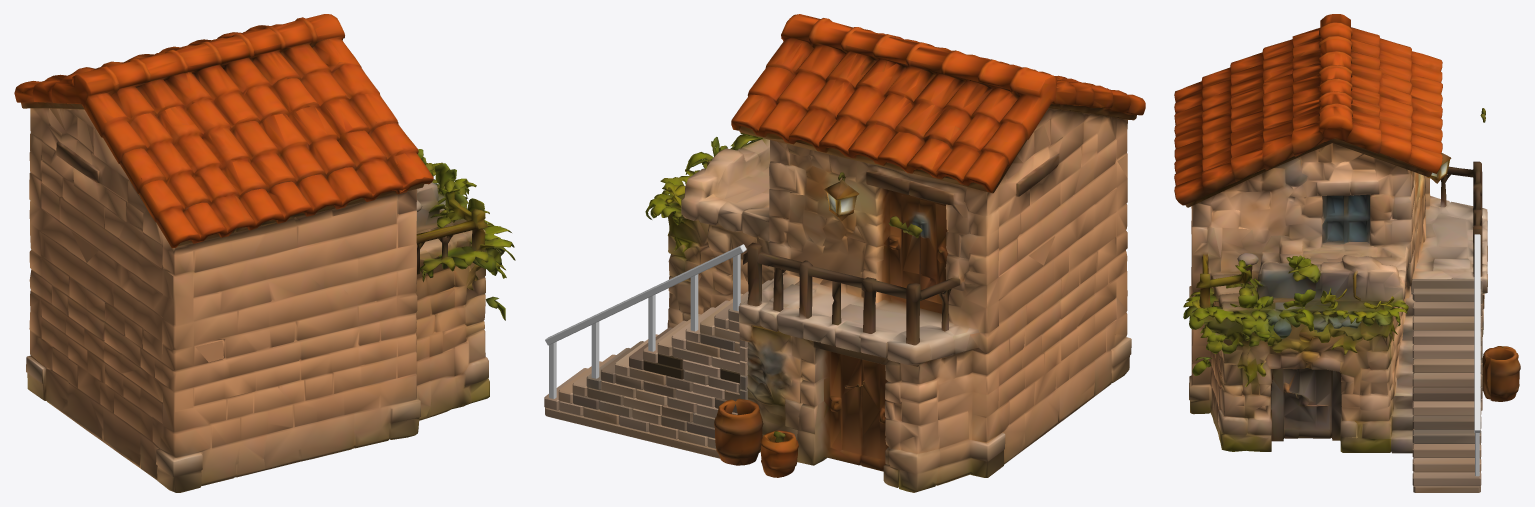
3 views of the same model, side by side, from view 1: azimuth 30°, elevation 25°; view 2: azimuth 150°, elevation 25°; view 3: azimuth 270°, elevation 25° (orthographic). The views are drawn at different scales.
Parts seen in each view (by area): view 1: Fachada_L3; view 2: Fachada_L3, Alvenaria_L3, Corrimao; view 3: Fachada_L3, Alvenaria_L3, Corrimao.
Boxes of the visible parts, x1,y1,x2,y2 form: Fachada_L3: [14, 14, 515, 492]; Fachada_L3: [645, 14, 1145, 492]; Alvenaria_L3: [544, 273, 783, 458]; Corrimao: [545, 244, 746, 345]; Fachada_L3: [1174, 14, 1520, 453]; Alvenaria_L3: [1411, 278, 1482, 492]; Corrimao: [1474, 234, 1480, 432].
Bounding box in the file's own units: 835 × 715 × 717.
